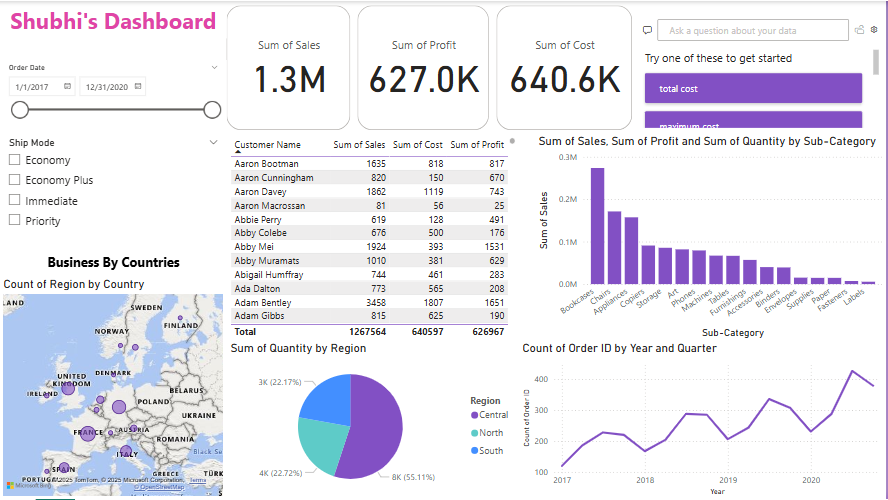

The page's visual inventory and layout, read from the dashboard file:
{"tool":"powerbi","page":{"name":"Page 1","canvas":[1280,720],"ordinal":0},"visuals":[{"type":"cardVisual","fields":{"Data":["List of Orders.Sales"]},"box":[322.4,1.4,189.4,190.8],"z":0},{"type":"cardVisual","fields":{"Data":["List of Orders.Cost"]},"box":[712.8,1.4,206.7,190.8],"z":1000},{"type":"cardVisual","fields":{"Data":["List of Orders.Profit"]},"box":[511.8,1.4,201,190.8],"z":2000},{"type":"tableEx","fields":{"Values":["List of Orders.Customer Name","List of Orders.Sales","List of Orders.Cost","List of Orders.Profit"]},"box":[328.3,191.7,421.7,300],"z":3000},{"type":"clusteredColumnChart","fields":{"Y":["List of Orders.Sales"],"Category":["List of Orders.Sub-Category"]},"box":[773.3,191.7,506.7,300],"z":4000},{"type":"lineChart","fields":{"Y":["List of Orders.Order ID"],"Category":["List of Orders.Order Date.Variation.Date Hierarchy.Year","List of Orders.Order Date.Variation.Date Hierarchy.Quarter"]},"box":[750,491.7,530,228.3],"z":5000},{"type":"pieChart","fields":{"Y":["List of Orders.Quantity"],"Category":["List of Orders.Region"]},"box":[328.3,491.7,421.7,228.3],"z":6000},{"type":"map","fields":{"Category":["List of Orders.Country"],"Size":["List of Orders.Region"]},"box":[0,399,328.2,321],"z":7000},{"type":"textbox","box":[0,0,327.7,54.4],"z":8000},{"type":"slicer","fields":{"Values":["List of Orders.Ship Mode"]},"box":[0,192,328,208],"z":9000},{"type":"slicer","fields":{"Values":["List of Orders.Order Date"]},"box":[0,85.2,327.7,105.8],"z":10000},{"type":"textbox","box":[0,360,328.2,36.1],"z":11000},{"type":"qnaVisual","box":[920,1,360,191],"z":11001}]}

Visuals, with their boxes in screenshot pixels (x1, y1, x2, y2), scaled from the page's 1280x720 canvas onto the 888x500 screenshot:
cardVisual - List of Orders.Sales: left=224, top=1, right=355, bottom=133
cardVisual - List of Orders.Cost: left=495, top=1, right=638, bottom=133
cardVisual - List of Orders.Profit: left=355, top=1, right=495, bottom=133
tableEx - List of Orders.Customer Name x List of Orders.Sales: left=228, top=133, right=520, bottom=341
clusteredColumnChart - List of Orders.Sales x List of Orders.Sub-Category: left=536, top=133, right=887, bottom=341
lineChart - List of Orders.Order ID x List of Orders.Order Date.Variation.Date Hierarchy.Year: left=520, top=341, right=887, bottom=499
pieChart - List of Orders.Quantity x List of Orders.Region: left=228, top=341, right=520, bottom=499
map - List of Orders.Country x List of Orders.Region: left=0, top=277, right=228, bottom=499
textbox: left=0, top=0, right=227, bottom=38
slicer - List of Orders.Ship Mode: left=0, top=133, right=228, bottom=278
slicer - List of Orders.Order Date: left=0, top=59, right=227, bottom=133
textbox: left=0, top=250, right=228, bottom=275
qnaVisual: left=638, top=1, right=887, bottom=133
